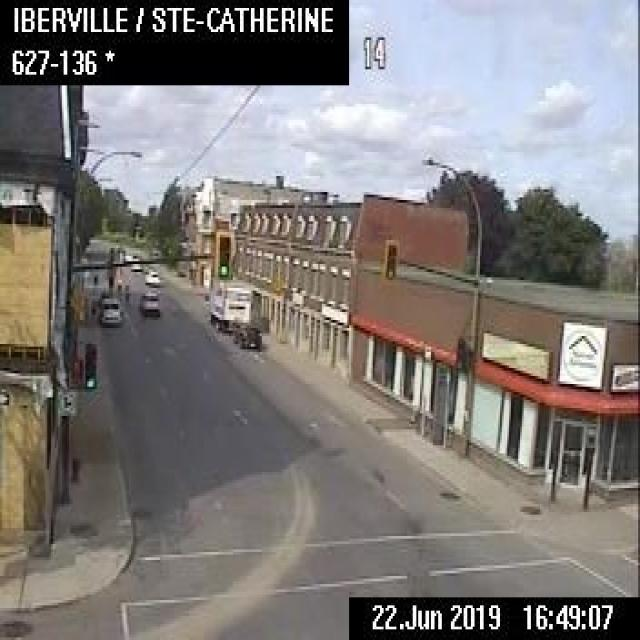pedestrian: (123, 282, 129, 307), (115, 280, 122, 298), (90, 296, 94, 317)
vehicle: (207, 280, 251, 330), (98, 295, 122, 323), (232, 322, 260, 345), (138, 289, 159, 315), (142, 266, 158, 284)
